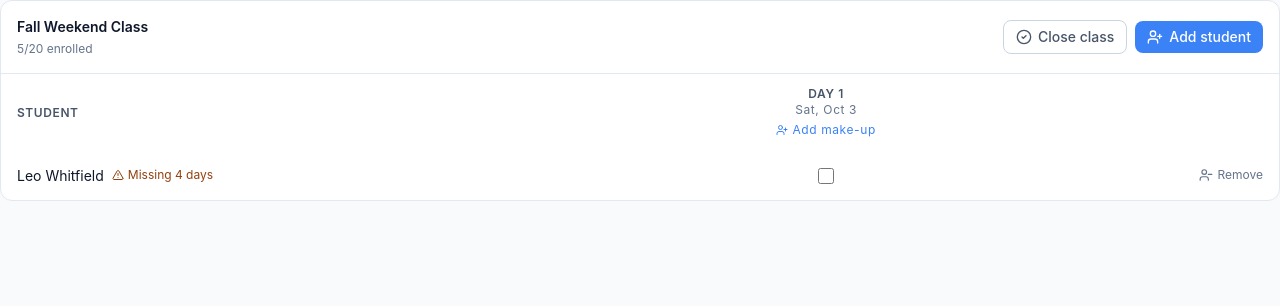
Scenario: CohortRoster - Remove from class › shows a confirm step naming the cohort before removing, and requires an explicit click to proceed
The width and height of the screenshot is (1280, 306).
Expected: the text "Leo Whitfield" is shown, [17,167,104,184]
Click the button "Remove" at (1231, 175), box [1200,167,1263,183]
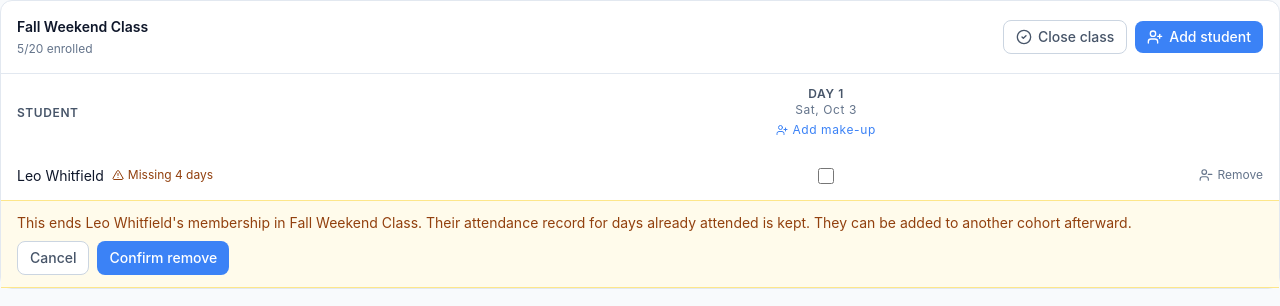
Expected: the text "This ends Leo Whitfield's membership in Fall Weekend Class" is shown, [17,213,1263,233]
Expected: the text "their attendance record for days already attended is kept" is shown, [418,214,1132,231]
